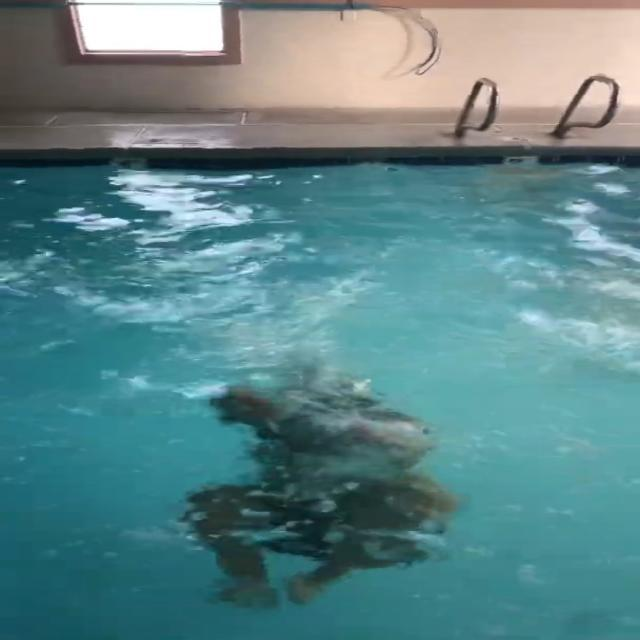Drowning: (186, 376, 463, 609)
